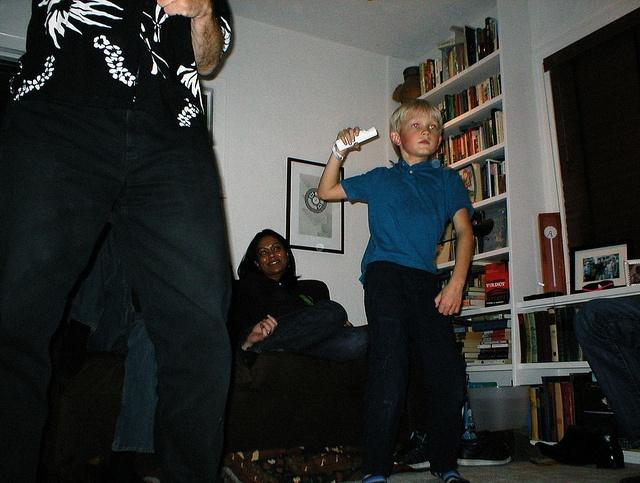Rak: (399, 11, 511, 372)
